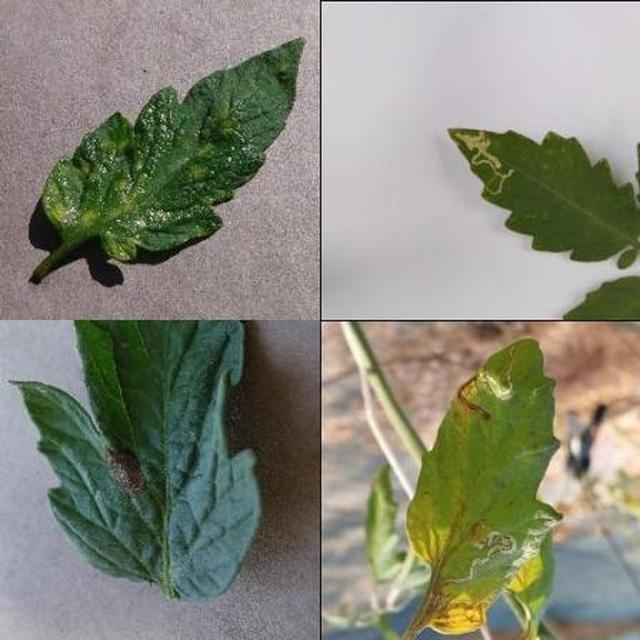Leaf Mold: (196, 194, 640, 640)
